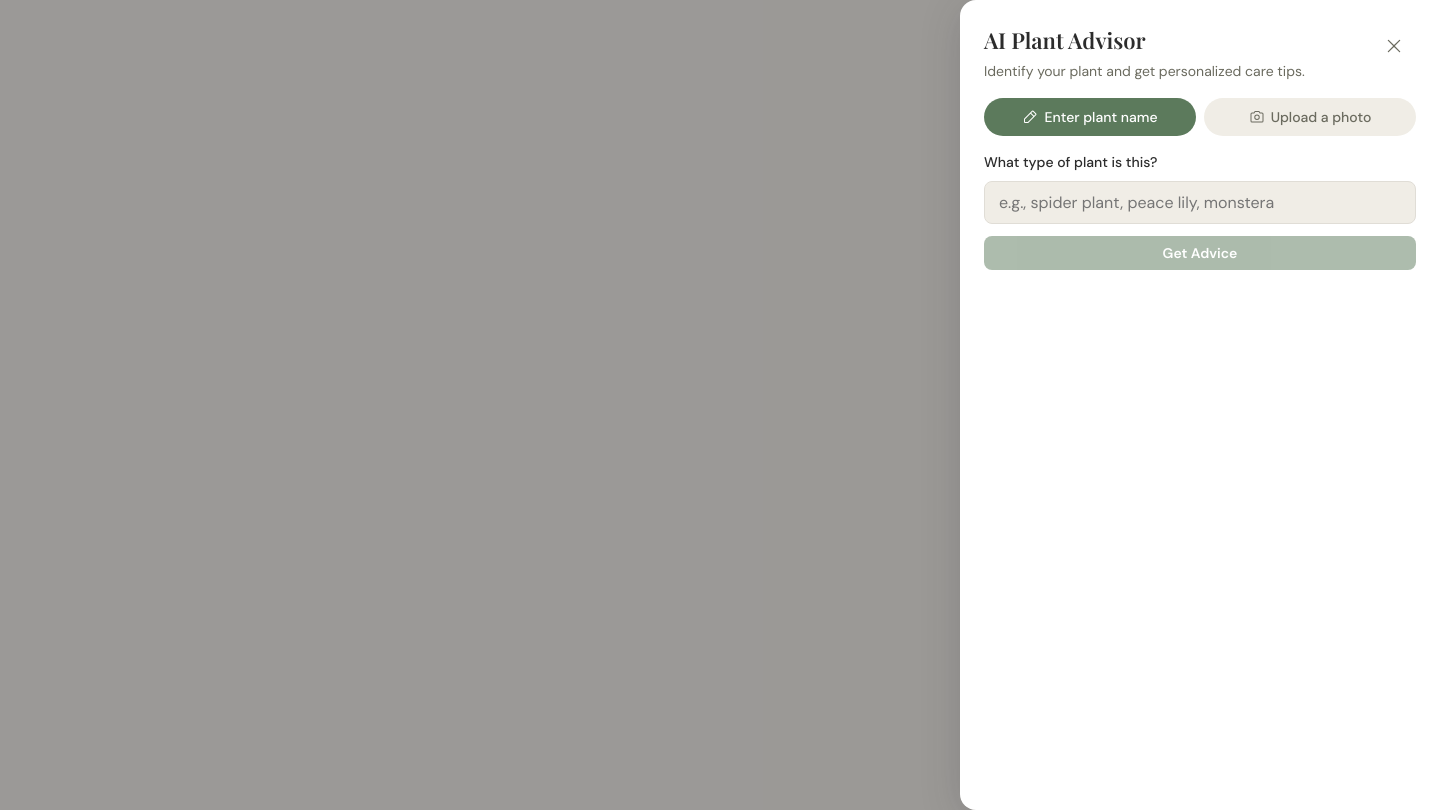
Test: AIAdvicePanel — T-079 Text-Based Flow › renders advice results on success
Type "spider plant" into the field named "Plant type name" at coordinates (1200, 202), box [984, 181, 1416, 224]
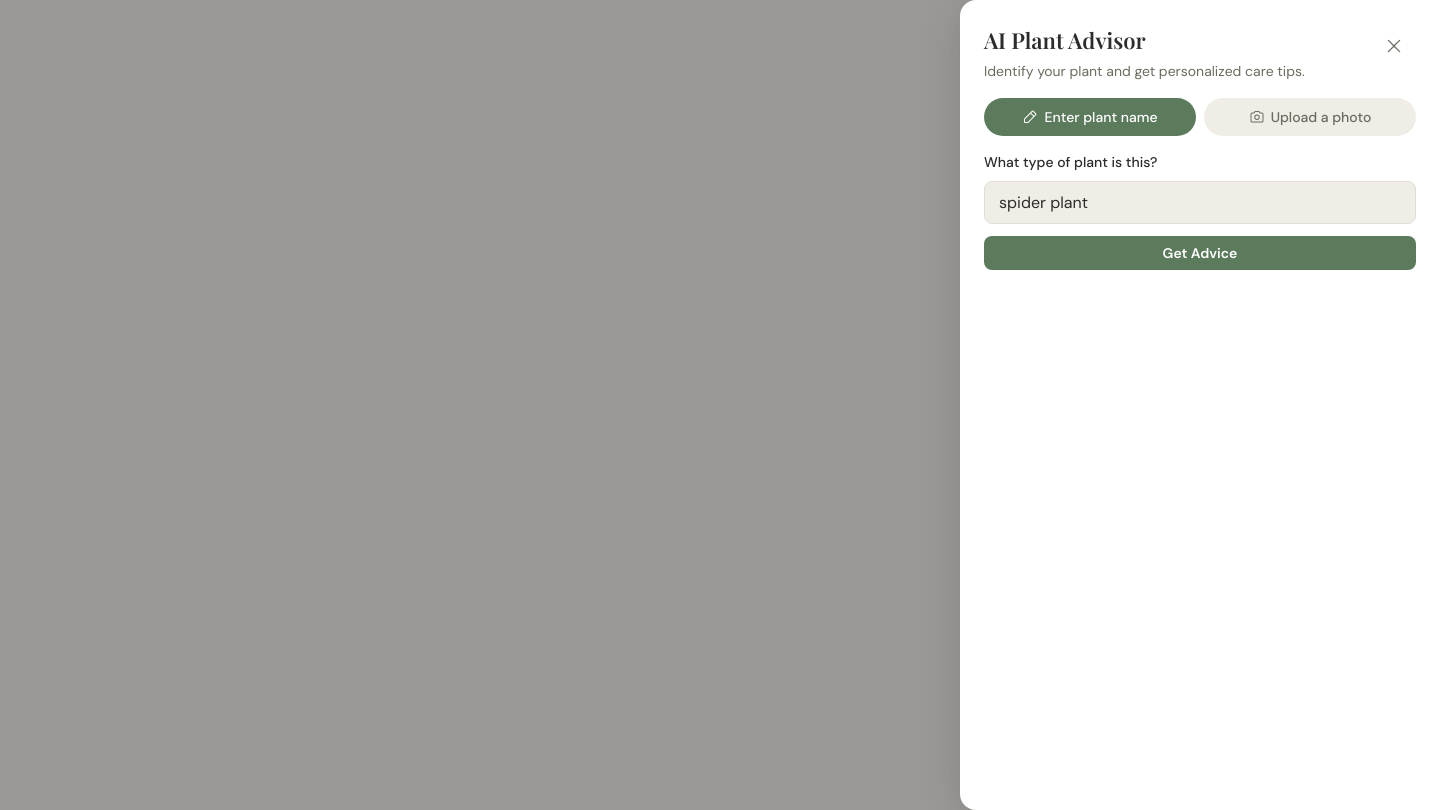
Click the button "Get Advice" at coordinates (1200, 253), box [984, 236, 1416, 270]
(page scrolled)
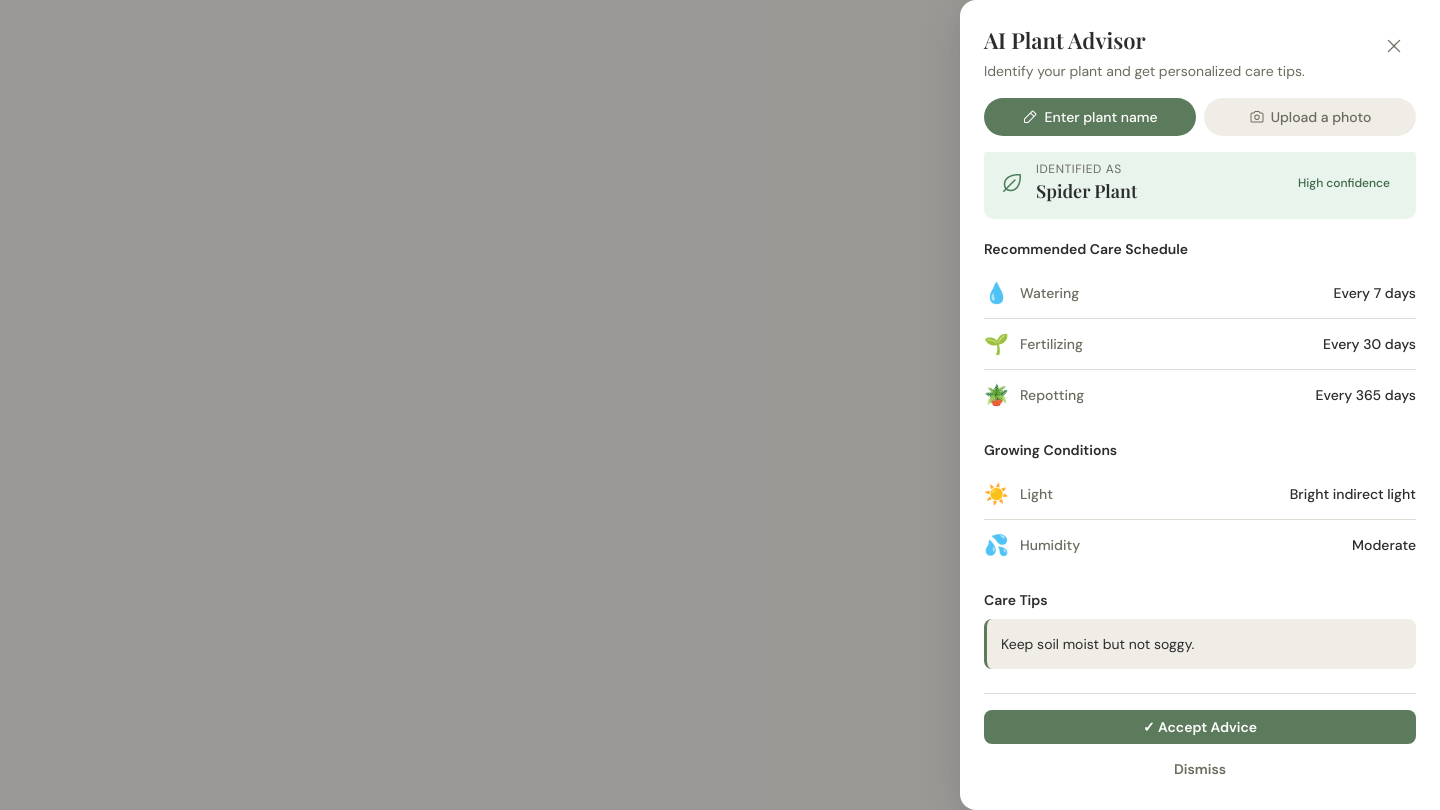
Expected: the text "Spider Plant" is shown, [1036, 178, 1137, 205]
Expected: the text "High confidence" is shown, [1288, 170, 1400, 196]
Expected: the text "Every 7 days" is shown, [1333, 282, 1416, 304]
